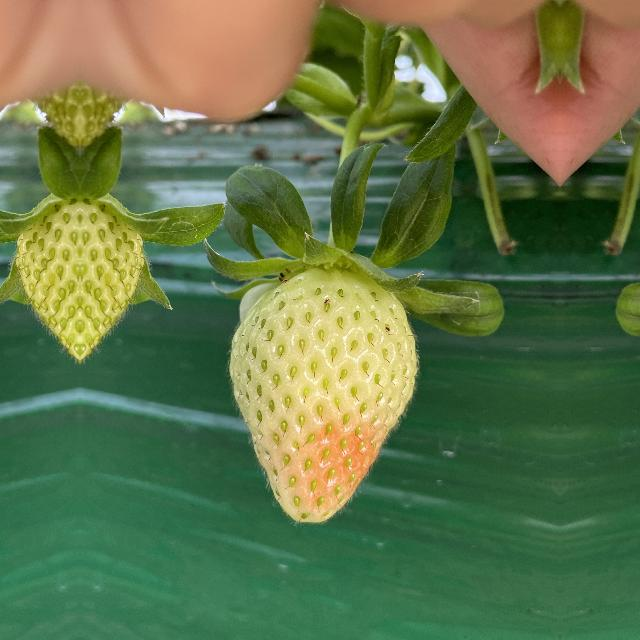Health_25: (80, 192, 146, 364), (14, 192, 80, 364)
Health_50: (208, 254, 424, 530)
